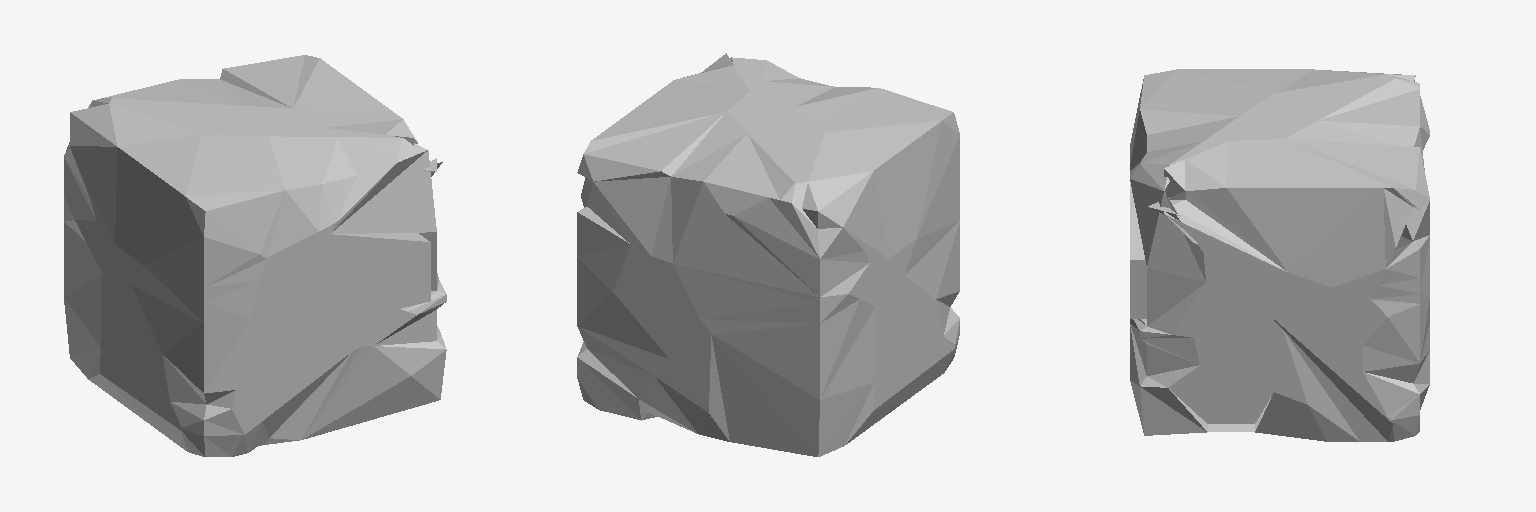
The model's file is Shatterd05.obj.
3 views of the same model, side by side, from view 1: azimuth 30°, elevation 25°; view 2: azimuth 150°, elevation 25°; view 3: azimuth 270°, elevation 25° (orthographic).
Parts seen in each view (by area): view 1: Shatterd05; view 2: Shatterd05; view 3: Shatterd05.
Part boxes in pixels (bbox=[...]): Shatterd05: bbox=[64, 55, 446, 456]; Shatterd05: bbox=[577, 53, 959, 456]; Shatterd05: bbox=[1130, 69, 1429, 441].
Size of the model in its own units: 2.16 by 2.15 by 2.15.